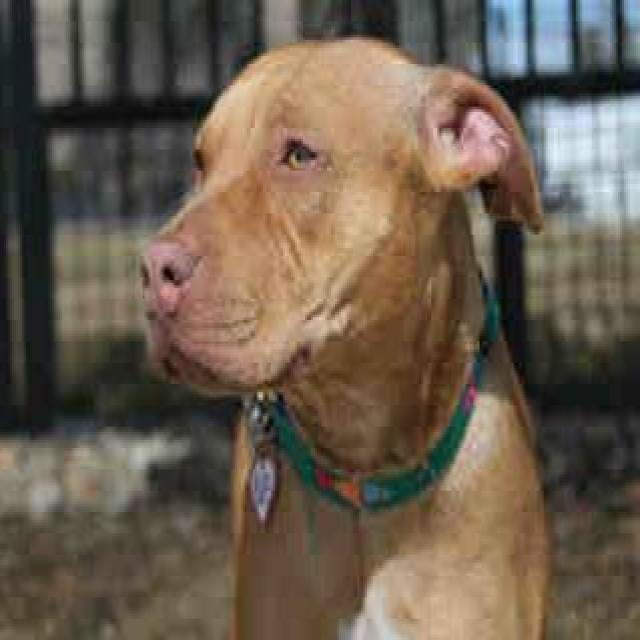dog: (136, 32, 552, 637)
